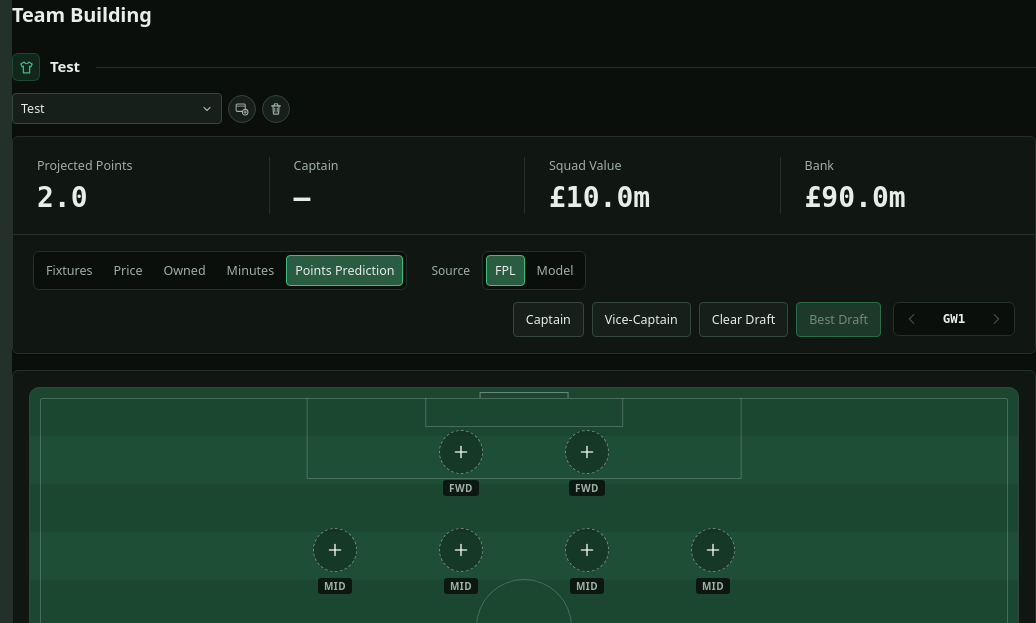
Test: Team Building — purchase price colours (<price_view>) › rank a squad player's purchase price against everyone else in his position at today's price
Click the radio button with aria-label "Price:".
click(128, 270)  # box top-left (104, 255), bottom-right (152, 286)
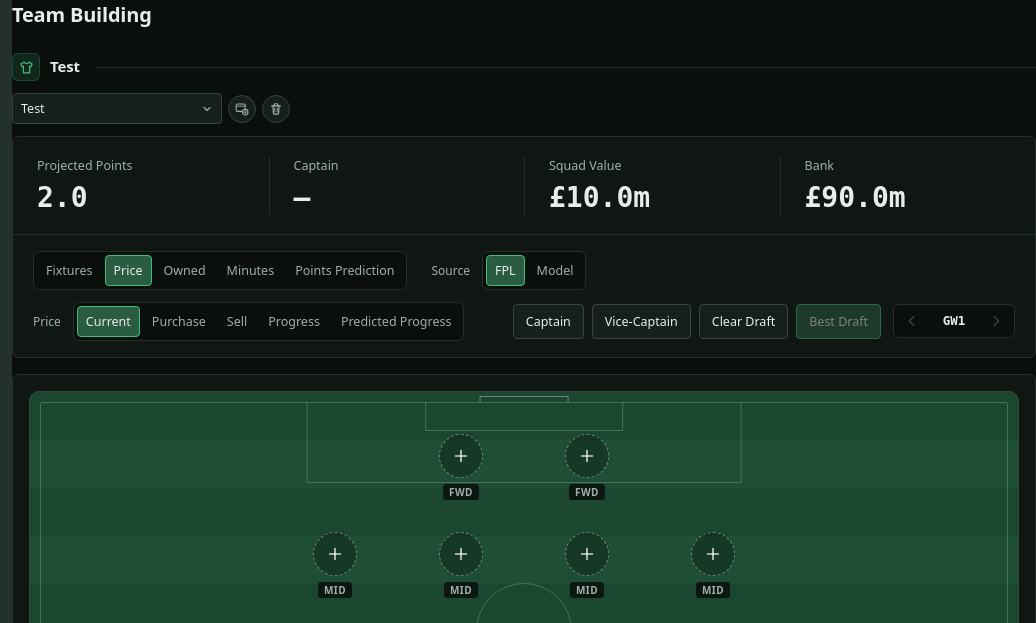
Click the radio button with aria-label "Purchase price".
click(179, 321)  # box top-left (143, 306), bottom-right (215, 337)
(page scrolled)
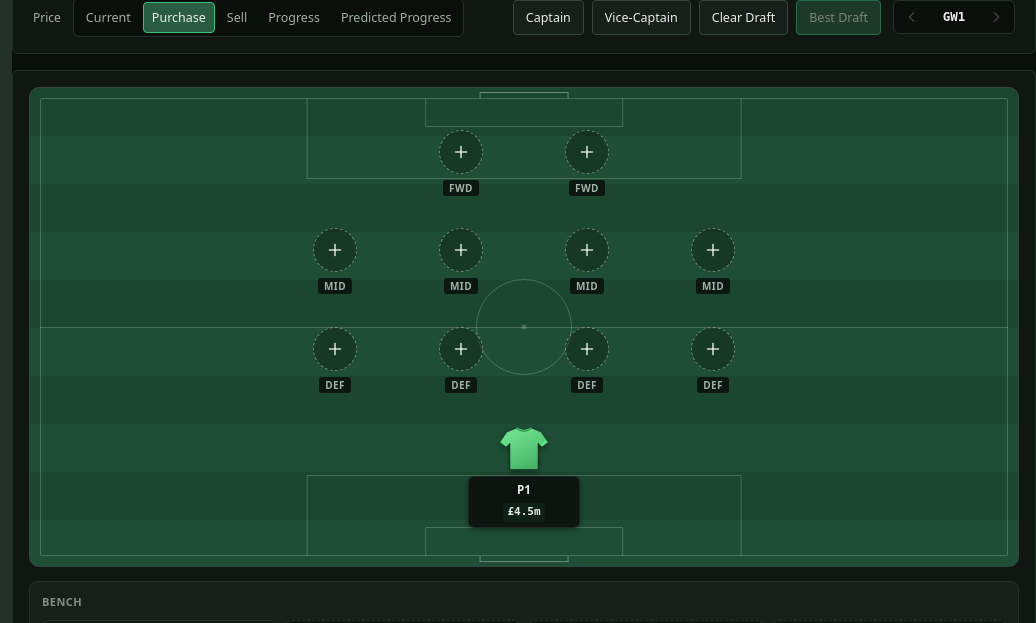
Expected: the text "£4.5m" is shown, top-left (503, 503), bottom-right (544, 521)
